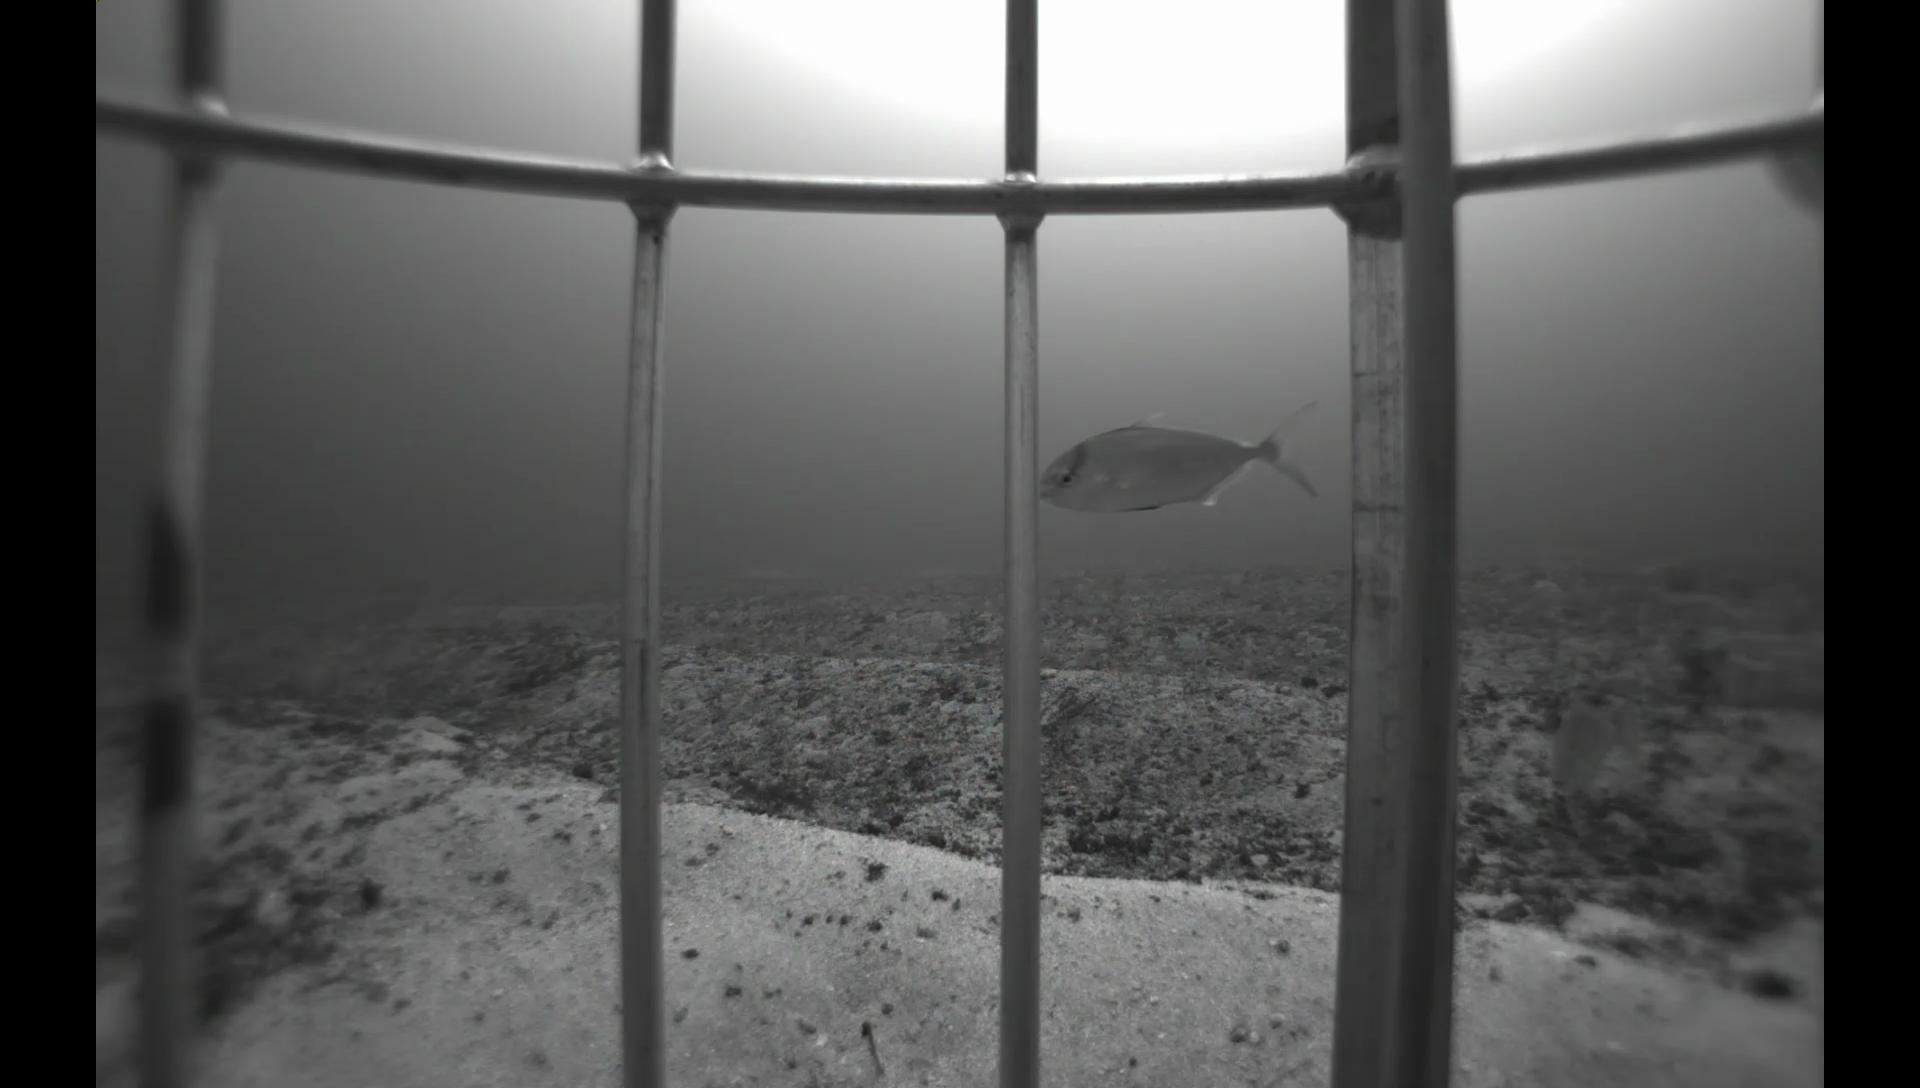CALAMUSPRORIDENS-170210605: (1536, 682, 1662, 810)
RHOMBOPLITESAURORUBENS-170152001: (1759, 158, 1825, 233)
SERIOLAFASCIATA-170113103: (1035, 397, 1325, 520)
